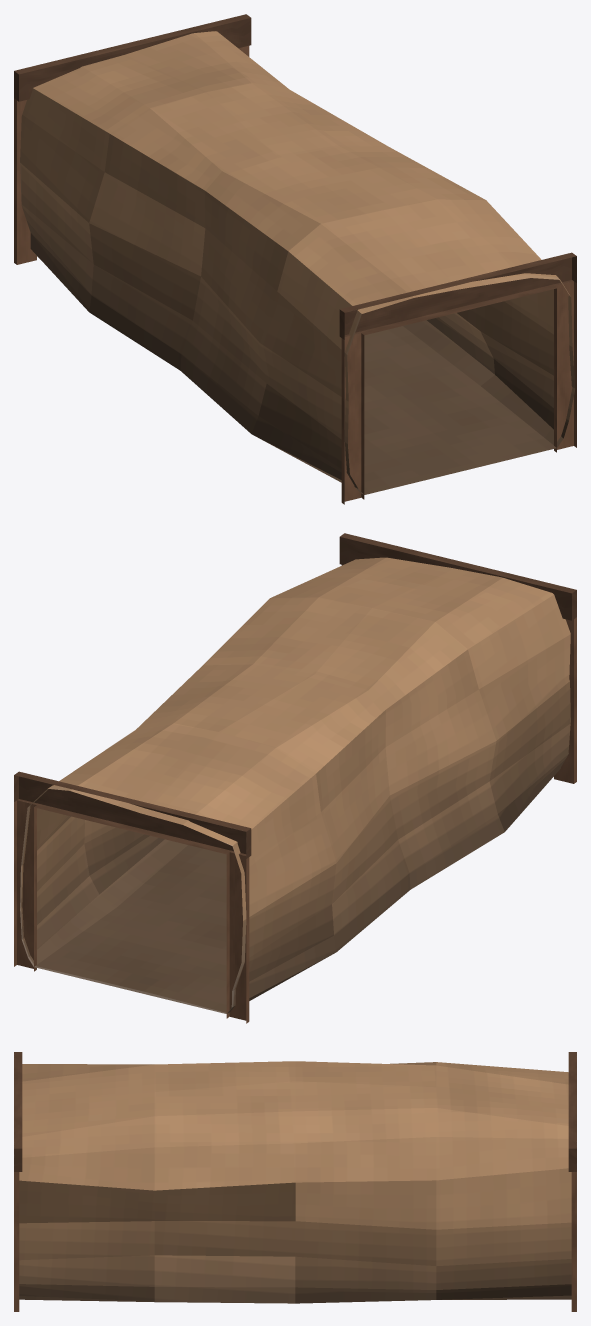
File: SM_Hallway.fbx
3 renders of one model, top to bottom at view 1: azimuth 30°, elevation 25°; view 2: azimuth 150°, elevation 25°; view 3: azimuth 270°, elevation 25°, orthographic. The views are drawn at different scales.
Parts seen in each view (by area): view 1: Hallway, Hallway.002, Hallway.001, Support -y, Support y; view 2: Hallway, Hallway.002, Hallway.001, Support y, Support -y; view 3: Hallway, Hallway.002, Support -y, Support y, Hallway.001.
Boxes of the visible parts, left/top/right/bottom form: Hallway: left=20, top=88, right=575, bottom=488; Hallway.002: left=33, top=31, right=559, bottom=313; Hallway.001: left=34, top=253, right=563, bottom=494; Support -y: left=339, top=252, right=576, bottom=504; Support y: left=14, top=14, right=251, bottom=264; Hallway: left=20, top=595, right=570, bottom=1007; Hallway.002: left=48, top=557, right=553, bottom=845; Hallway.001: left=28, top=839, right=330, bottom=1013; Support y: left=14, top=771, right=251, bottom=1023; Support -y: left=339, top=533, right=576, bottom=783; Hallway: left=19, top=1137, right=571, bottom=1303; Hallway.002: left=22, top=1061, right=568, bottom=1157; Support -y: left=14, top=1052, right=22, bottom=1311; Support y: left=568, top=1052, right=576, bottom=1311; Hallway.001: left=19, top=1295, right=571, bottom=1303.
Size of the model in its own units: 458 by 344 by 1000.
